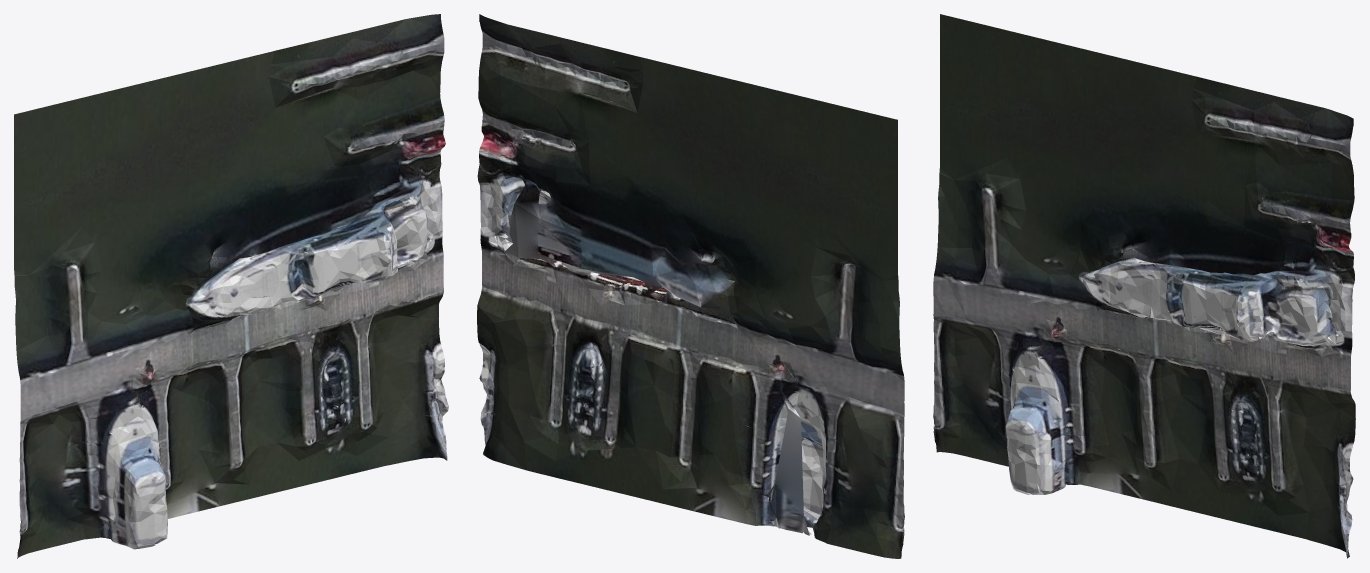
File: Tile_+038_+020_L21_00033200.obj
The picture shows the model from 3 angles, left to right: view 1: azimuth 30°, elevation 25°; view 2: azimuth 150°, elevation 25°; view 3: azimuth 330°, elevation 25°; orthographic projection.
Bounding box in the file's own units: 31.38 × 31.31 × 4.77.
1 material, 1 textured.
